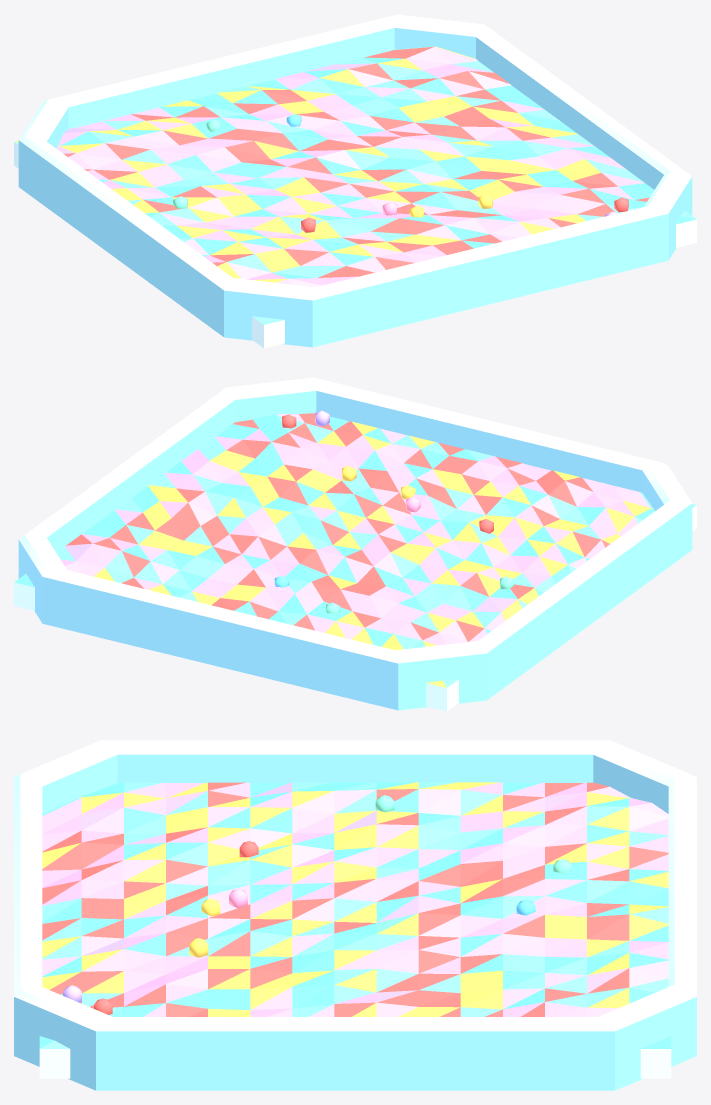
File: ball-pit.glb
3 renders of one model, top to bottom at view 1: azimuth 30°, elevation 25°; view 2: azimuth 150°, elevation 25°; view 3: azimuth 270°, elevation 25°, orthographic. The views are drawn at different scales.
Parts seen in each view (by area): view 1: ball-pit; view 2: ball-pit; view 3: ball-pit.
Boxes of the visible parts, box(x1,y1,x2,y2) form: ball-pit: box(14, 14, 696, 348); ball-pit: box(14, 377, 696, 711); ball-pit: box(14, 740, 696, 1090).
Size of the model in its own units: 24 by 2.5 by 24.
